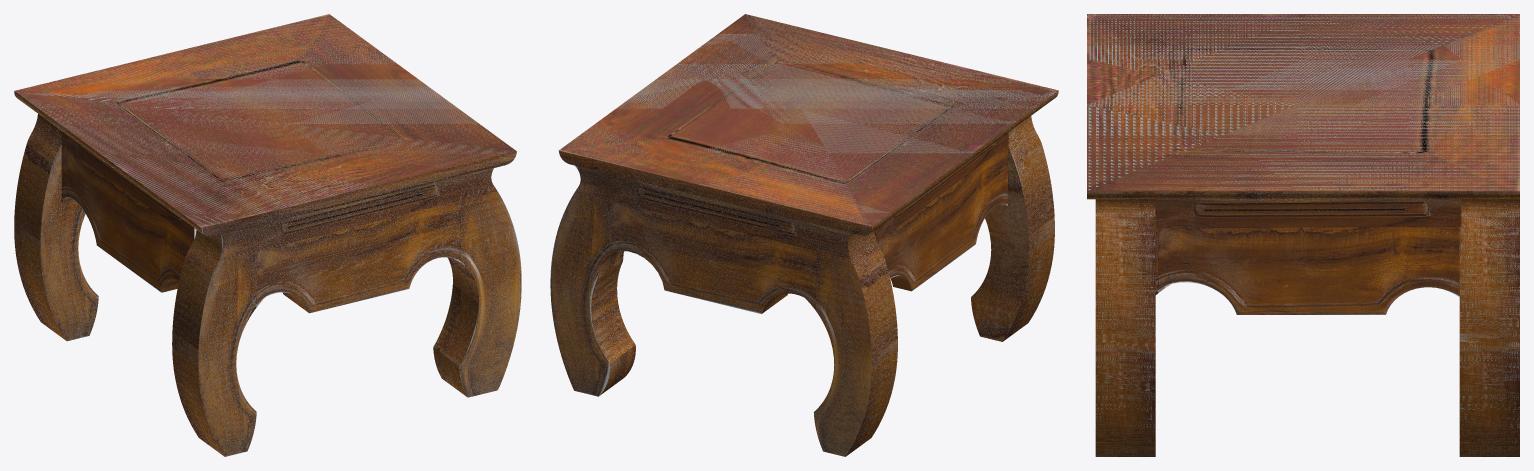
Rendered from table.dae.
3 views of the same model, side by side, from view 1: azimuth 30°, elevation 25°; view 2: azimuth 150°, elevation 25°; view 3: azimuth 270°, elevation 25° (orthographic). The views are drawn at different scales.
Visible parts, largest first — view 1: Table_basse_carr_Opium_Maisons_du_monde_49.170.145__prix___1 (×5), group_1; view 2: Table_basse_carr_Opium_Maisons_du_monde_49.170.145__prix___1 (×3), group_1; view 3: Table_basse_carr_Opium_Maisons_du_monde_49.170.145__prix___1 (×2), group_0.
Boxes of the visible parts, x1=… form: Table_basse_carr_Opium_Maisons_du_monde_49.170.145__prix___1 (×5): x1=14, y1=14, x2=521, y2=456; group_1: x1=61, y1=131, x2=196, y2=292; Table_basse_carr_Opium_Maisons_du_monde_49.170.145__prix___1 (×3): x1=550, y1=14, x2=1058, y2=456; group_1: x1=876, y1=132, x2=1008, y2=290; Table_basse_carr_Opium_Maisons_du_monde_49.170.145__prix___1 (×2): x1=1087, y1=14, x2=1519, y2=456; group_0: x1=1155, y1=199, x2=1461, y2=314.
Bounding box in the file's own units: 110 × 111 × 77.61.
7 materials, 5 textured.
